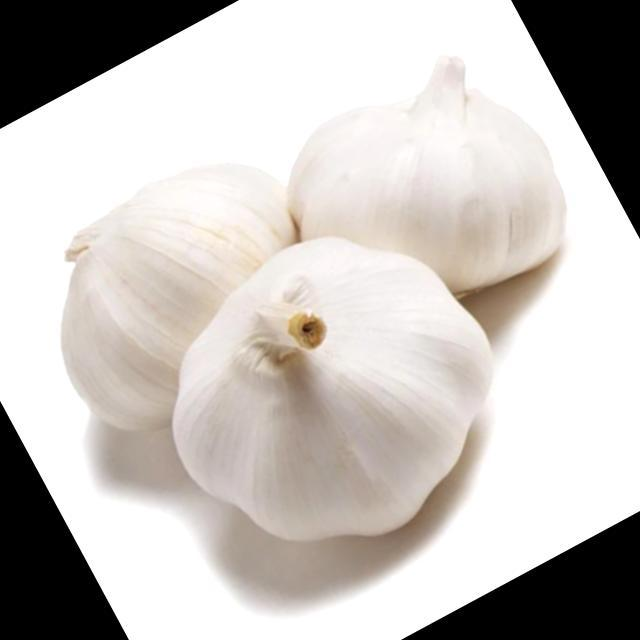garlic: (172, 238, 491, 540), (288, 58, 565, 292), (61, 165, 295, 429)
